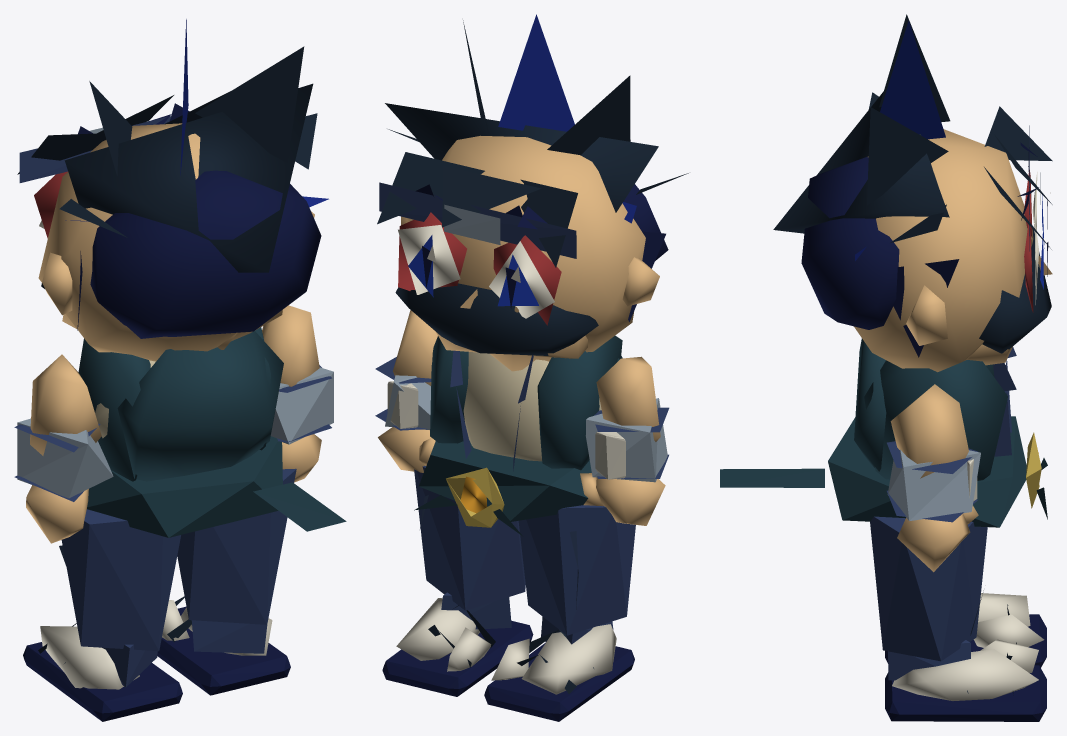
File: ninja_crowd.glb
3 views of the same model, side by side, from view 1: azimuth 30°, elevation 25°; view 2: azimuth 150°, elevation 25°; view 3: azimuth 270°, elevation 25° (orthographic). The views are drawn at different scales.
Visible parts, largest first — view 1: CrowdNinja; view 2: CrowdNinja; view 3: CrowdNinja.
Boxes of the visible parts, x1,y1,x2,y2 form: CrowdNinja: (14,19,346,721); CrowdNinja: (375,14,688,721); CrowdNinja: (720,14,1052,721).
Size of the model in its own units: 1.39 by 3.01 by 1.38.
